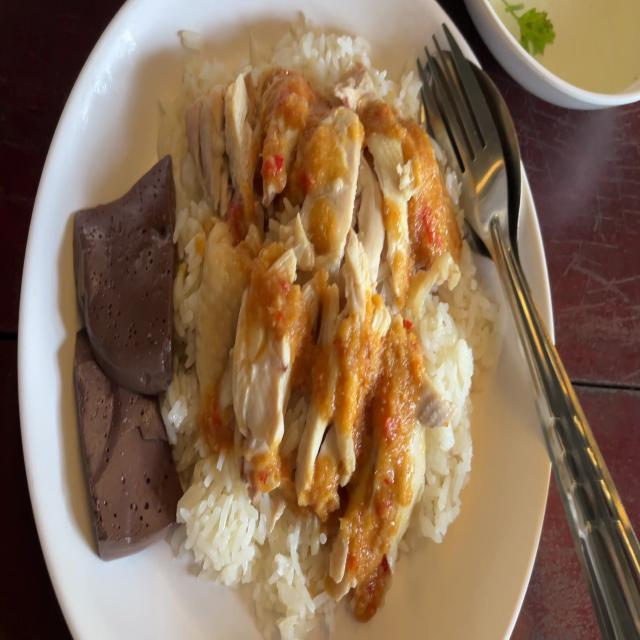boiled_chicken: (201, 79, 413, 485)
boiled_chicken_blood_jelly: (69, 328, 177, 546), (76, 161, 170, 387)
chicken_rice: (76, 9, 484, 640)
